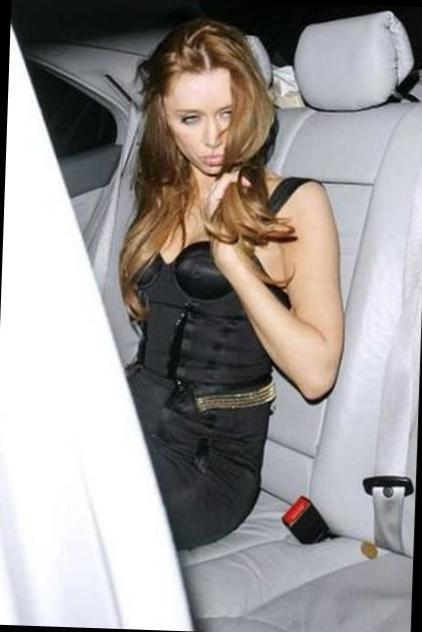Drunk: (166, 73, 240, 170)
